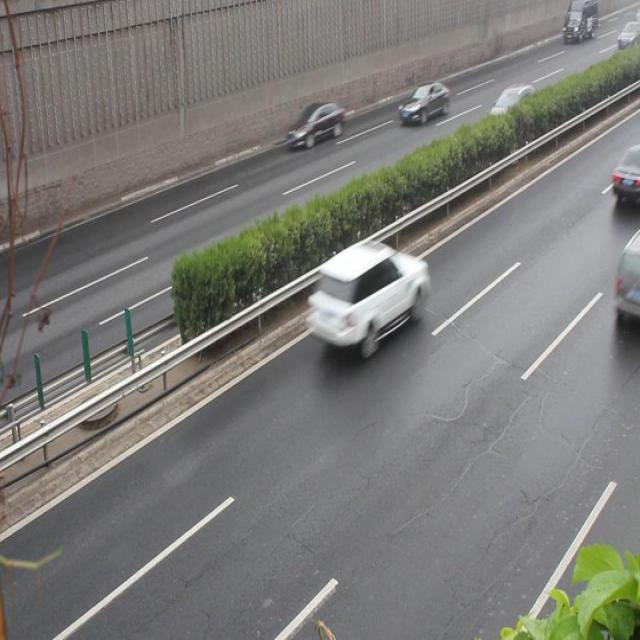car: (305, 240, 425, 348), (285, 98, 346, 154), (480, 85, 537, 133), (396, 82, 448, 128)
